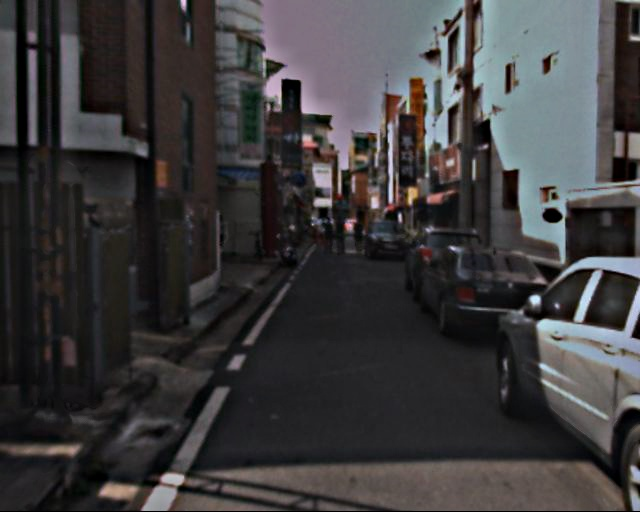person: (334, 215, 351, 257), (322, 215, 338, 254), (351, 219, 367, 257)
